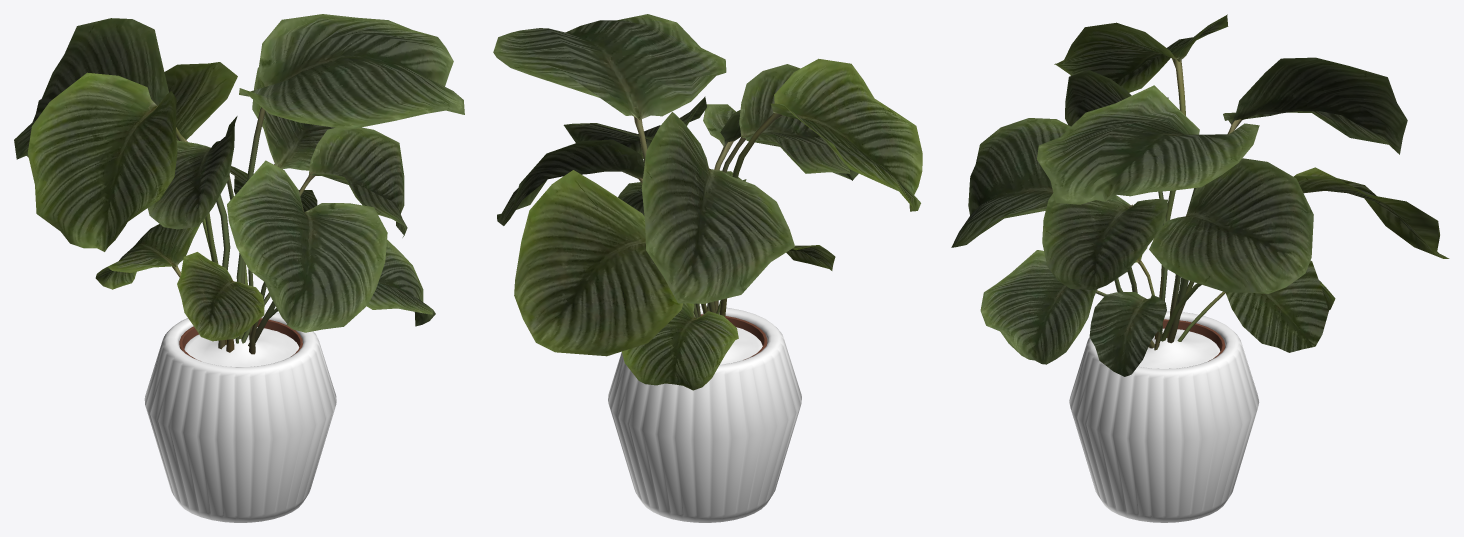
The model's file is calathea.glb.
3 views of the same model, side by side, from view 1: azimuth 30°, elevation 25°; view 2: azimuth 150°, elevation 25°; view 3: azimuth 270°, elevation 25° (orthographic). The views are drawn at different scales.
Visible parts, largest first — view 1: calathea Leaves, Ceramic pot, Soil, Plastic pot; view 2: calathea Leaves, Ceramic pot, Soil; view 3: calathea Leaves, Ceramic pot, Soil.
Boxes of the visible parts, box(x1,y1,x2,y2) form: calathea Leaves: box(14, 14, 464, 354); Ceramic pot: box(144, 310, 336, 522); Soil: box(184, 327, 299, 366); Plastic pot: box(179, 318, 302, 359); calathea Leaves: box(493, 14, 922, 390); Ceramic pot: box(608, 306, 801, 522); Soil: box(720, 327, 762, 364); calathea Leaves: box(951, 14, 1449, 376); Ceramic pot: box(1069, 311, 1259, 522); Soil: box(1138, 328, 1220, 368).
Bounding box in the file's own units: 0.5257 × 0.5425 × 0.5652.
Materials: 4 (1 with a texture image).
